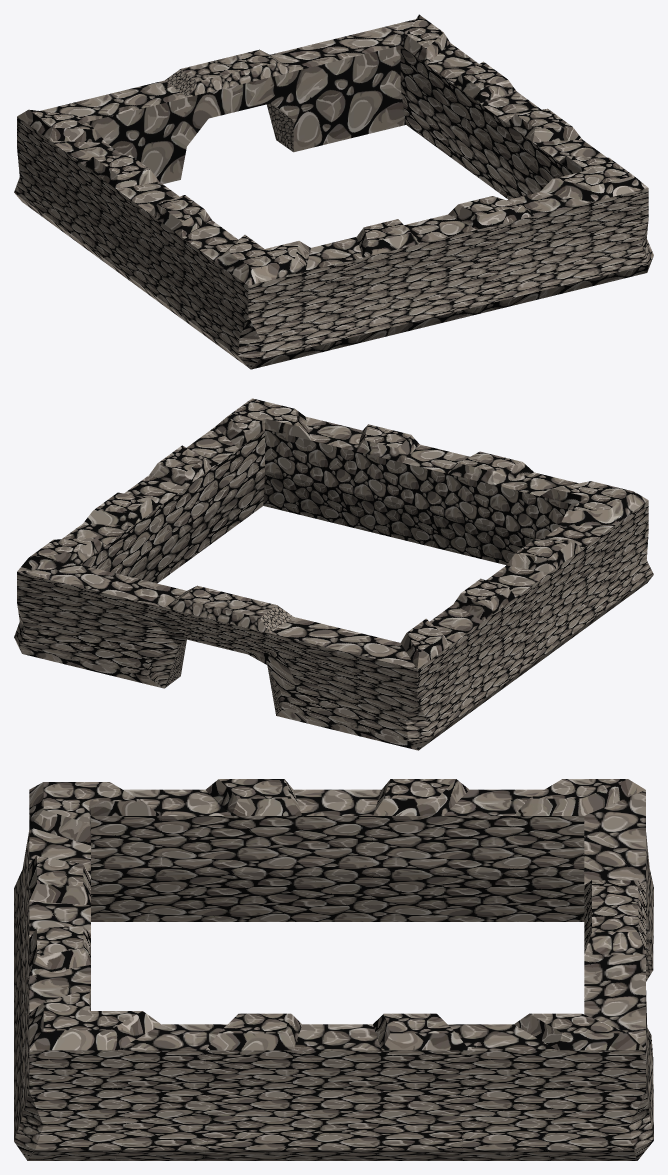
The model's file is Castle.fbx.
The picture shows the model from 3 angles, top to bottom: view 1: azimuth 30°, elevation 25°; view 2: azimuth 150°, elevation 25°; view 3: azimuth 270°, elevation 25°; orthographic projection. The views are drawn at different scales.
Parts seen in each view (by area): view 1: Cube; view 2: Cube; view 3: Cube.
Boxes of the visible parts, x1,y1,x2,y2 form: Cube: (14, 14, 653, 369); Cube: (14, 398, 653, 750); Cube: (14, 779, 653, 1160).
Size of the model in its own units: 1038 by 225 by 1038.
